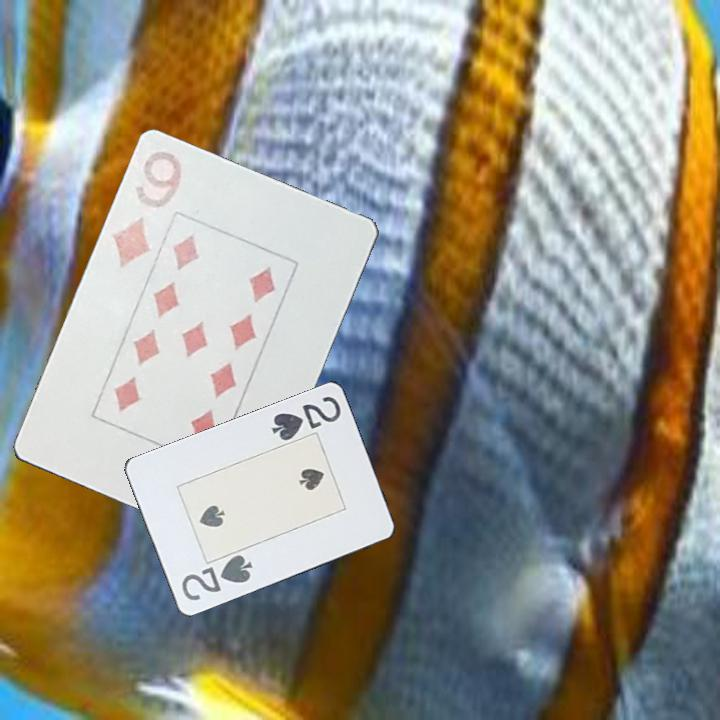2s: (178, 552, 255, 604), (267, 393, 344, 444)
9d: (106, 147, 186, 271)
